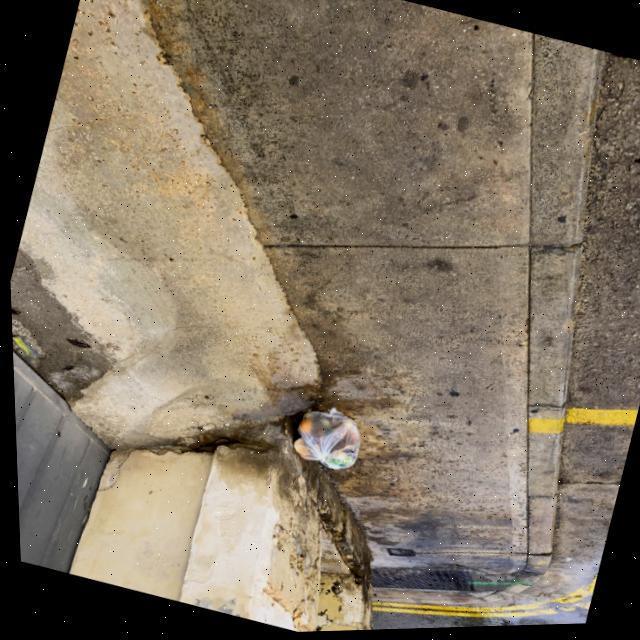Organic Waste -White Bag-: (270, 392, 378, 485)
